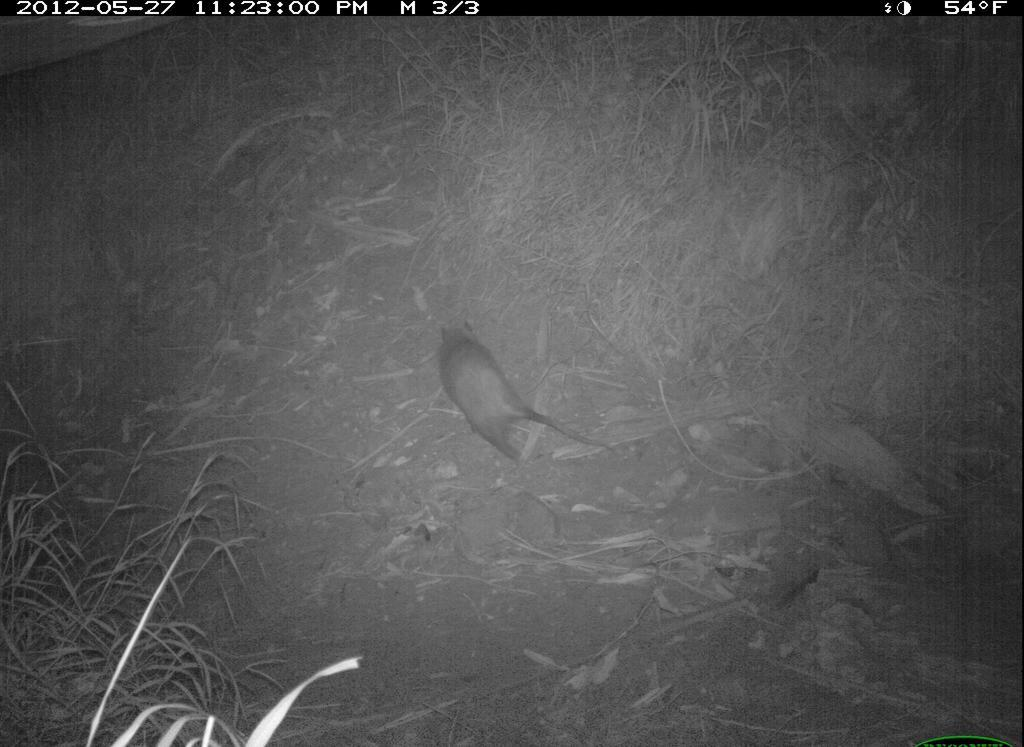opossum: (423, 312, 624, 477)
